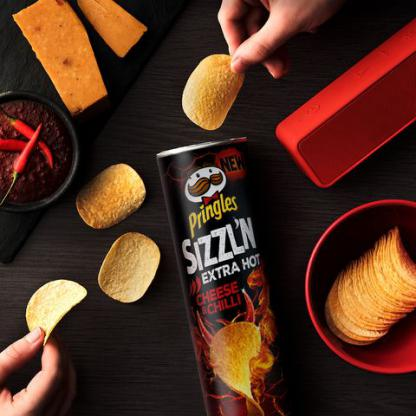potatochip: (156, 131, 296, 415)
